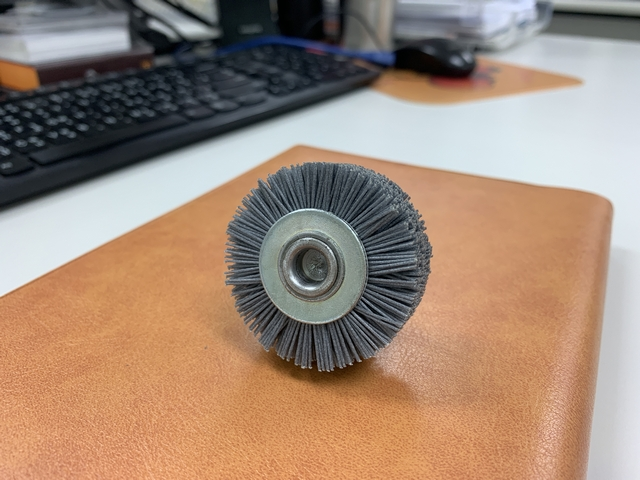Wheel Brush: (174, 149, 469, 397), (189, 168, 434, 392), (226, 157, 338, 373)
